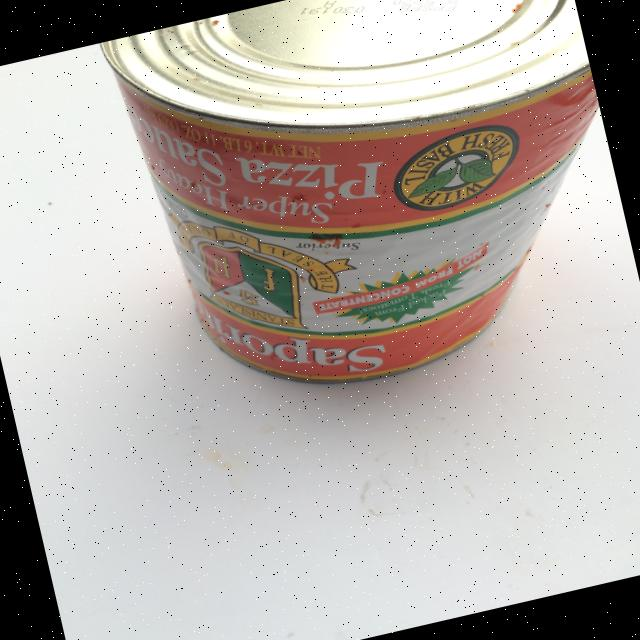metal: (98, 0, 640, 422)
